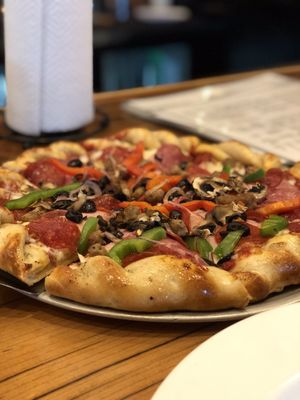pizza: (2, 0, 95, 138)
